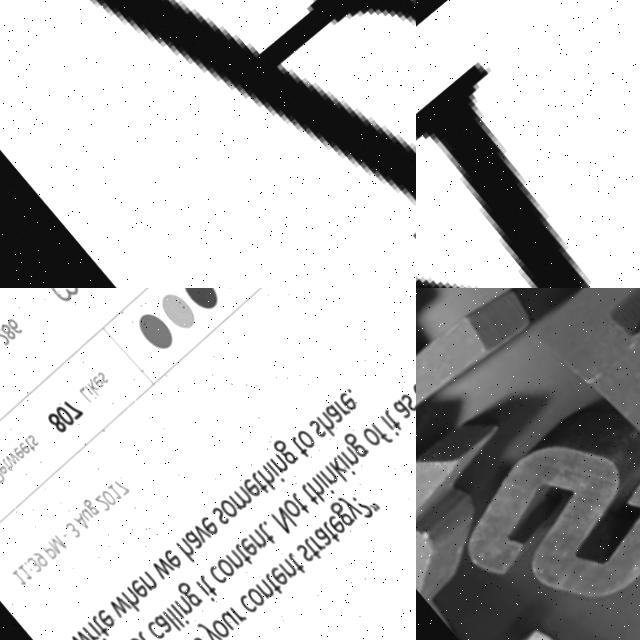0: (50, 403, 74, 428), (96, 488, 116, 508)
1: (6, 566, 27, 589), (102, 481, 122, 503), (12, 561, 32, 583)
2: (91, 493, 109, 513), (0, 327, 9, 348)
3: (22, 553, 42, 575), (60, 519, 80, 540)
6: (3, 317, 22, 337)
7: (59, 396, 82, 421), (109, 476, 127, 496)
8: (41, 409, 69, 437), (0, 321, 16, 342)
9: (28, 548, 48, 569)
E: (96, 0, 416, 203), (518, 288, 640, 469)
S: (416, 348, 640, 640)
X: (416, 0, 640, 288)
